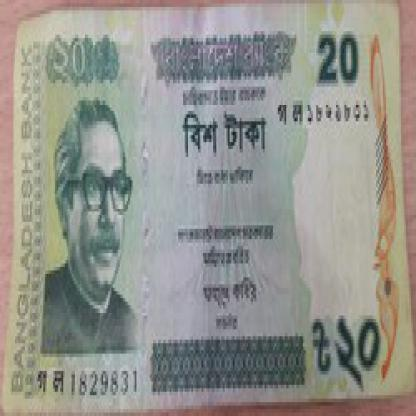Twenty: (312, 291, 390, 382), (177, 104, 280, 166), (50, 24, 125, 101), (310, 17, 370, 94)
